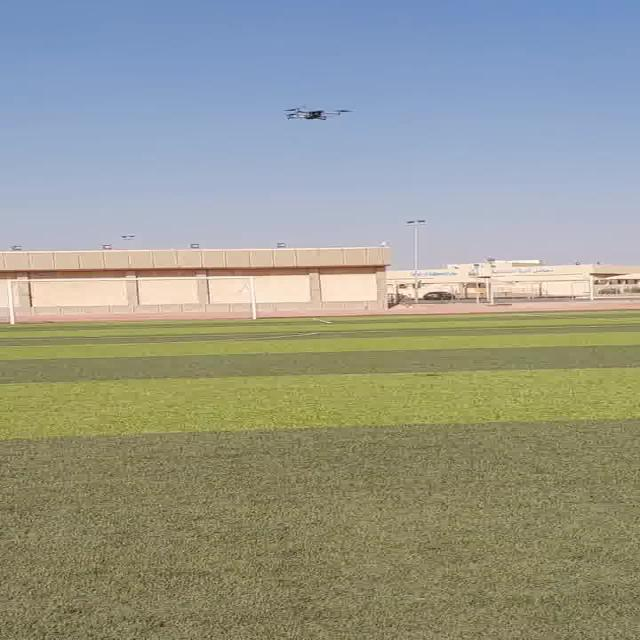drone: (277, 102, 356, 128)
